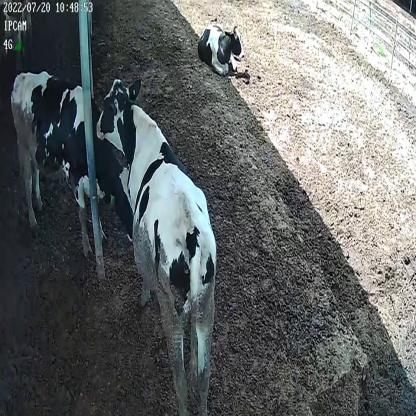cow: (96, 71, 217, 416), (11, 72, 136, 260), (195, 15, 245, 77)
